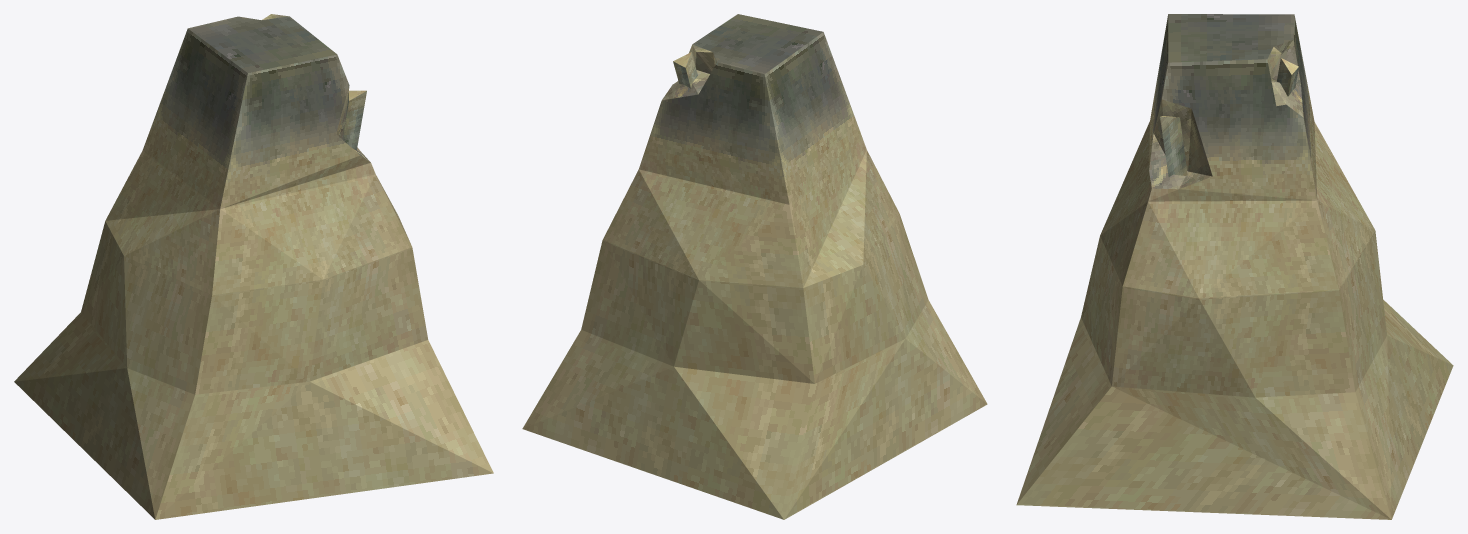
File: C3SMTKTRPH.obj
3 renders of one model, left to right at view 1: azimuth 30°, elevation 25°; view 2: azimuth 150°, elevation 25°; view 3: azimuth 270°, elevation 25°, orthographic. The views are drawn at different scales.
Visible parts, largest first — view 1: Node 0; view 2: Node 0; view 3: Node 0.
Boxes of the visible parts, x1,y1,x2,y2 form: Node 0: (14,14,493,519); Node 0: (522,14,987,519); Node 0: (1016,14,1453,519).
Bounding box in the file's own units: 4.47 × 4.9 × 4.81.
2 materials, 2 textured.
